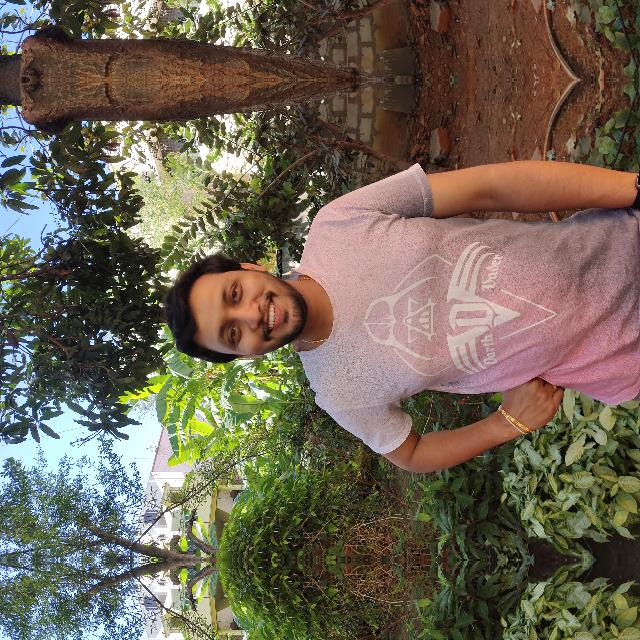person: (76, 228, 416, 640), (76, 400, 416, 640)
